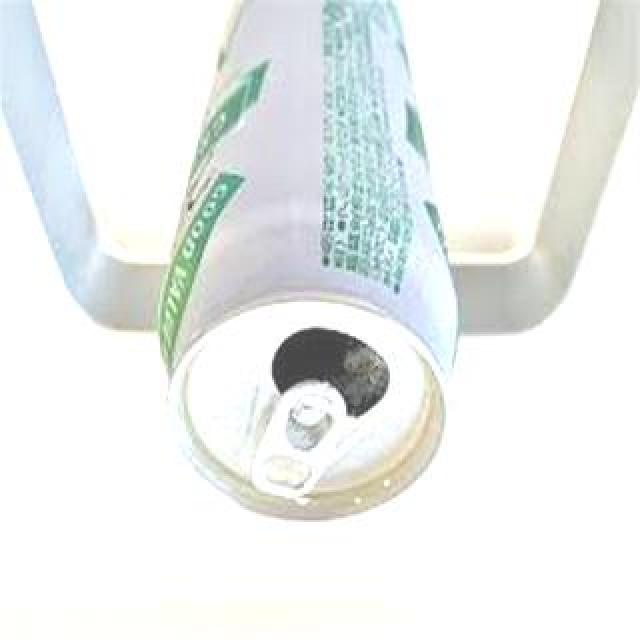Can: (161, 0, 459, 532)
